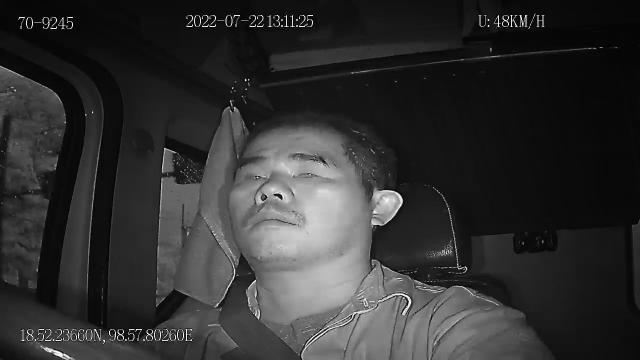SafeDriving: (285, 158, 332, 186)
Seatbelt: (216, 290, 304, 360)
